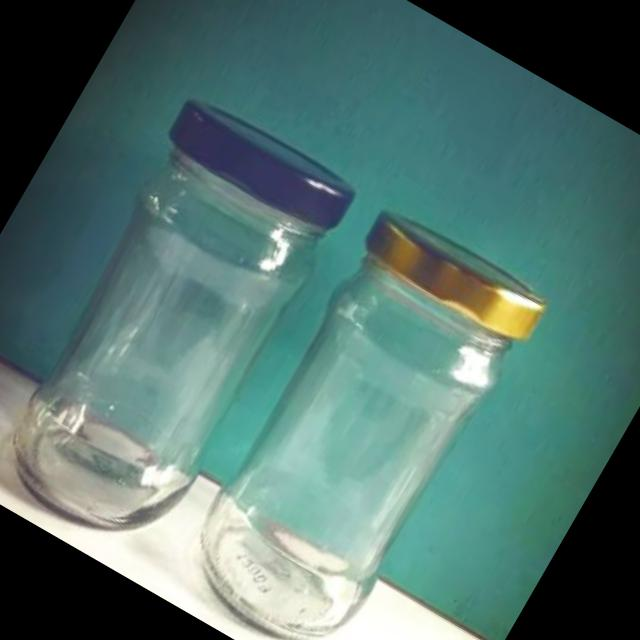ToplesKaca: (0, 85, 366, 566), (165, 197, 554, 640)
